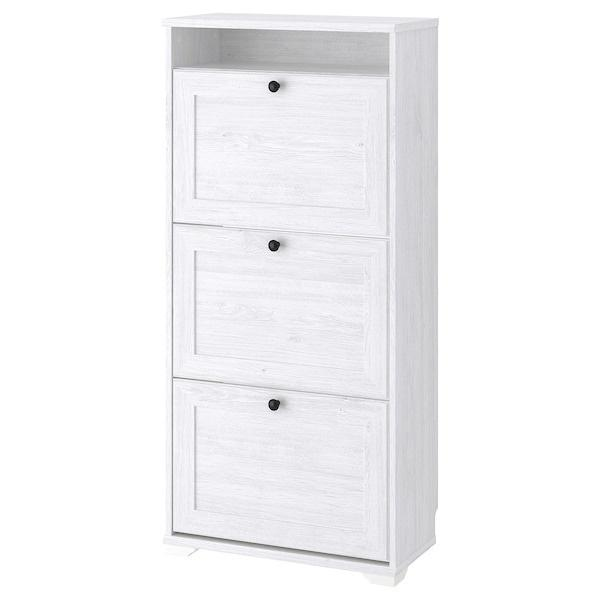cabinet_door: (174, 389, 384, 540), (178, 70, 386, 222), (177, 230, 386, 379)
handle: (264, 76, 284, 100), (265, 392, 283, 418), (265, 234, 282, 258)
